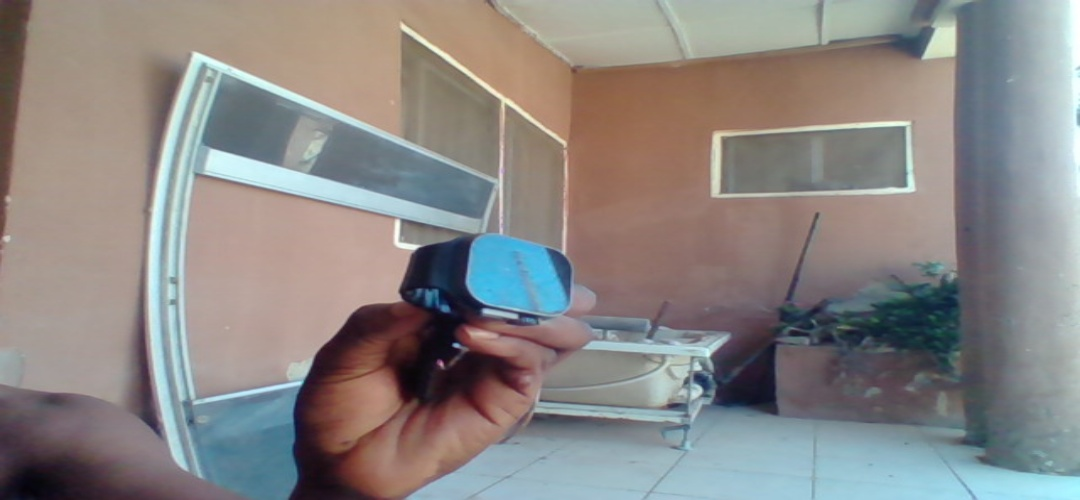smart_watch: (404, 233, 576, 327)
